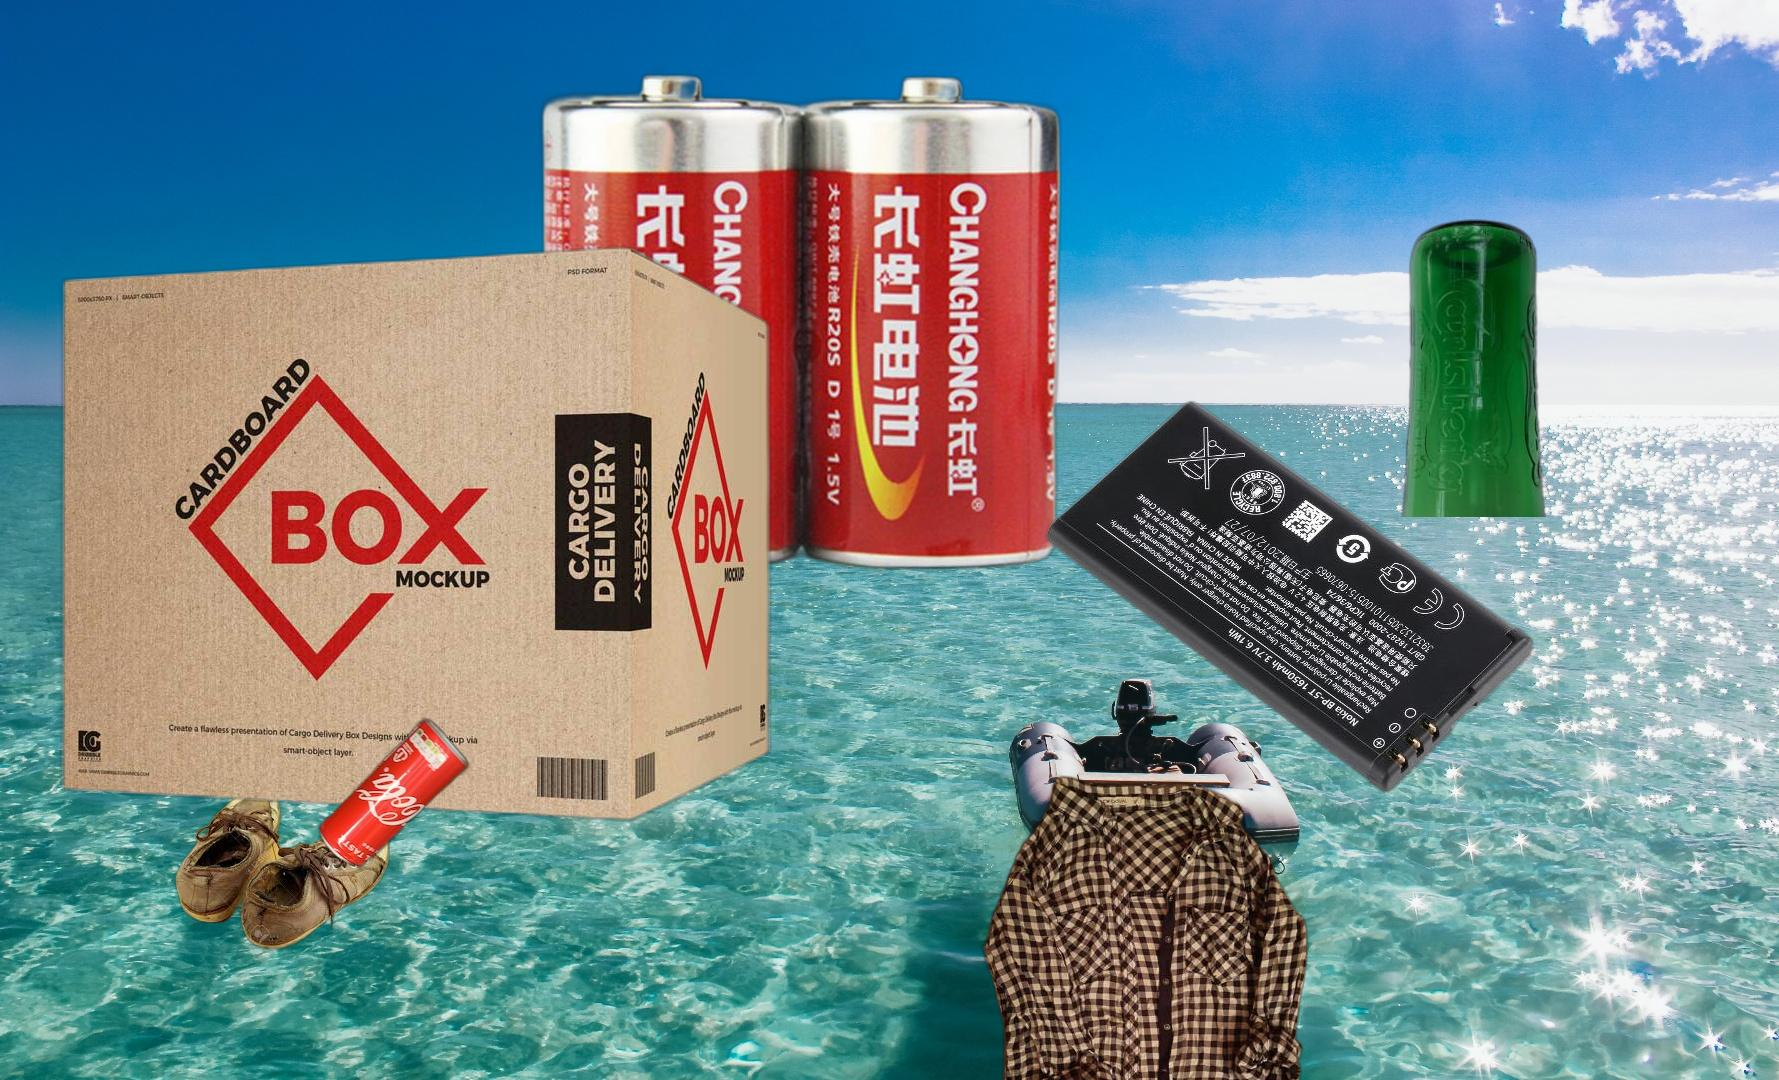battery: (535, 69, 1067, 576), (1039, 396, 1538, 795)
clothes: (977, 773, 1313, 1080)
glass: (1398, 217, 1549, 517)
metal-cans: (315, 712, 474, 873)
plastic-bag: (123, 380, 348, 584)
shoes: (172, 784, 402, 953)
trashbox-cardboard: (53, 240, 780, 827)
